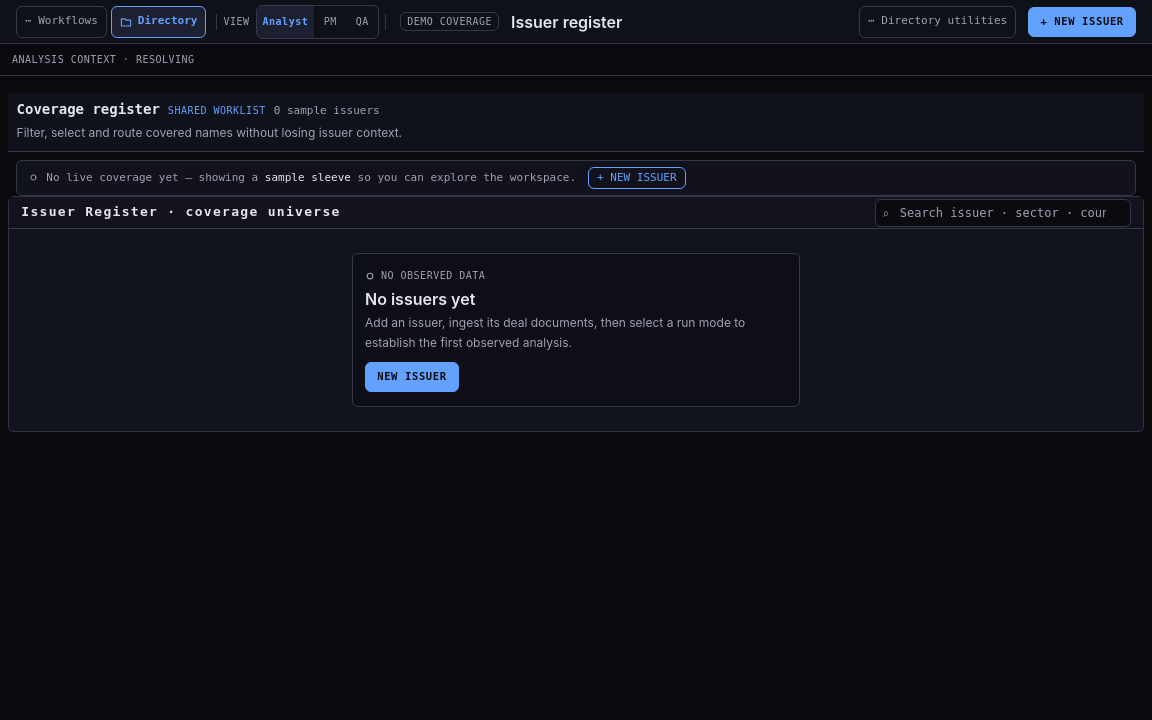
Issuers directory — loading, search, sort, and filters › pipeline-07 offers the primary creation action when both live and sample coverage are empty
Expected: the heading "No issuers yet" is shown, [365,289,475,309]
Click the button "New issuer" at (412, 377), box [365,362,459,392]
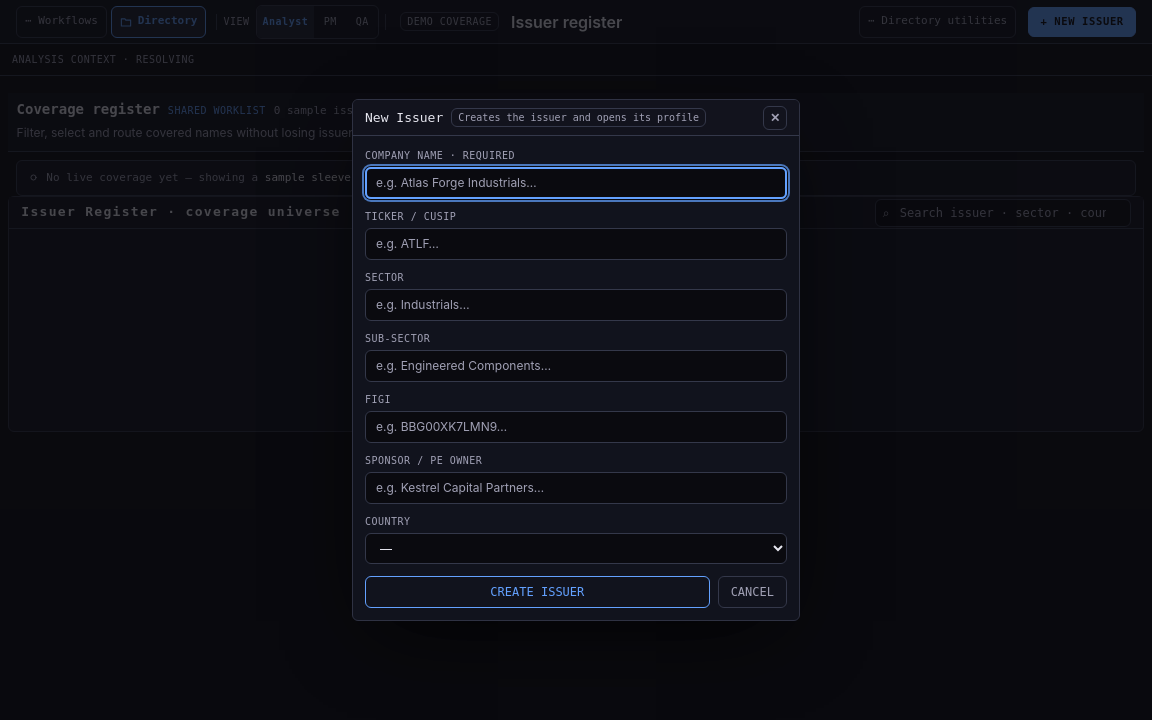
Result: the dialog "New Issuer" is shown at [352,99,800,621]
